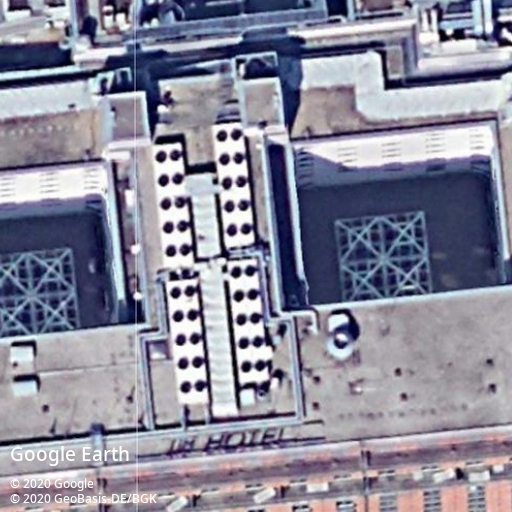Chiller: (164, 277, 211, 405), (224, 257, 271, 385), (211, 121, 256, 248), (151, 141, 195, 269)
